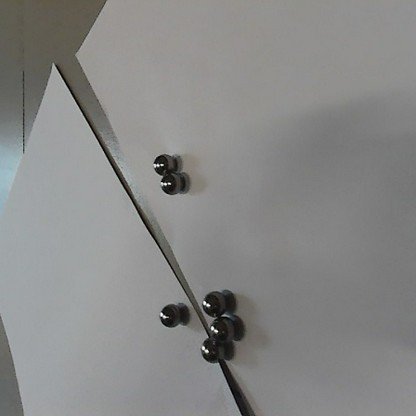ironball: (200, 290, 228, 317), (208, 318, 231, 341), (158, 303, 179, 326), (153, 152, 174, 172), (160, 174, 180, 192), (199, 342, 218, 359)
